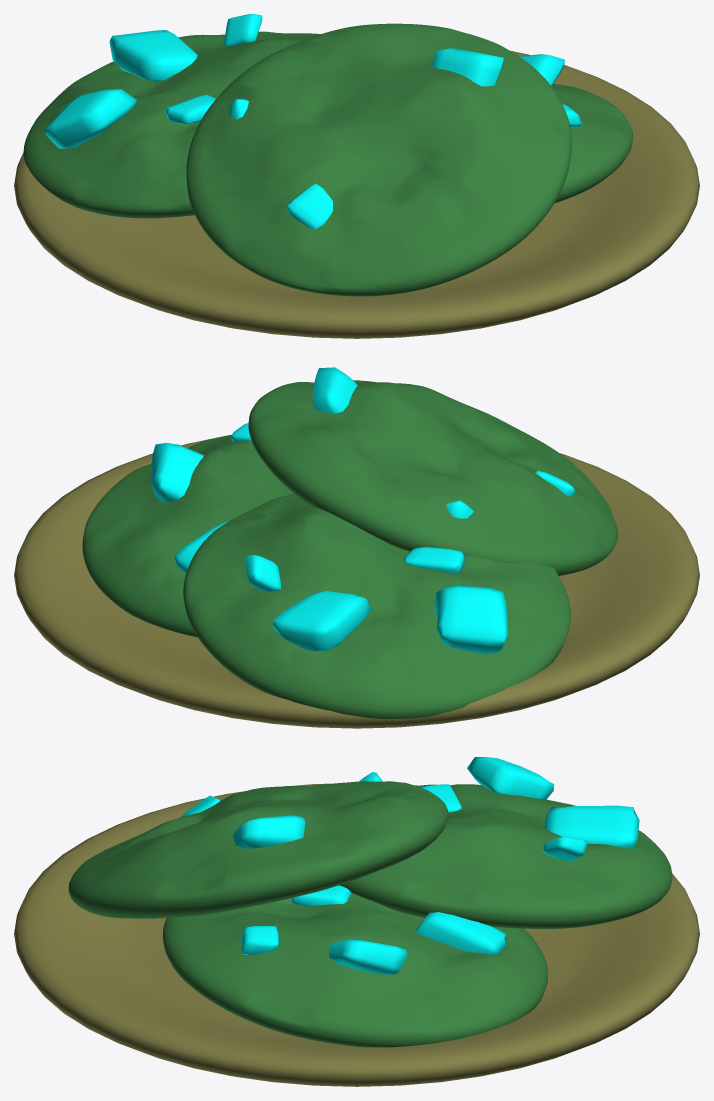
File: cookies.fbx
3 views of the same model, one above another, from view 1: azimuth 30°, elevation 25°; view 2: azimuth 150°, elevation 25°; view 3: azimuth 270°, elevation 25° (orthographic).
Visible parts, largest first — view 1: cookie02_low, plate_low, cookie03_low, chips03_low, cookie01_low, chips02_low, chips01_low; view 2: cookie03_low, plate_low, cookie02_low, cookie01_low, chips03_low, chips01_low, chips02_low; view 3: plate_low, cookie01_low, cookie02_low, cookie03_low, chips03_low, chips01_low, chips02_low.
Boxes of the visible parts, x1,y1,x2,y2 form: cookie02_low: (186, 23, 571, 296); plate_low: (14, 50, 699, 338); cookie03_low: (23, 31, 320, 218); chips03_low: (45, 14, 262, 148); cookie01_low: (551, 84, 632, 203); chips02_low: (229, 48, 503, 229); chips01_low: (519, 54, 581, 126); cookie03_low: (183, 494, 570, 718); plate_low: (14, 438, 699, 728); cookie02_low: (248, 380, 617, 575); cookie01_low: (82, 435, 293, 637); chips03_low: (245, 547, 508, 654); chips01_low: (151, 423, 251, 572); chips02_low: (313, 367, 575, 518); plate_low: (14, 783, 699, 1086); cookie01_low: (163, 893, 547, 1047); cookie02_low: (68, 781, 448, 918); cookie03_low: (339, 784, 672, 928); chips03_low: (420, 757, 639, 860); chips01_low: (241, 885, 506, 974); chips02_low: (181, 772, 382, 848).
Size of the model in its own units: 51.03 by 15.15 by 51.03.
